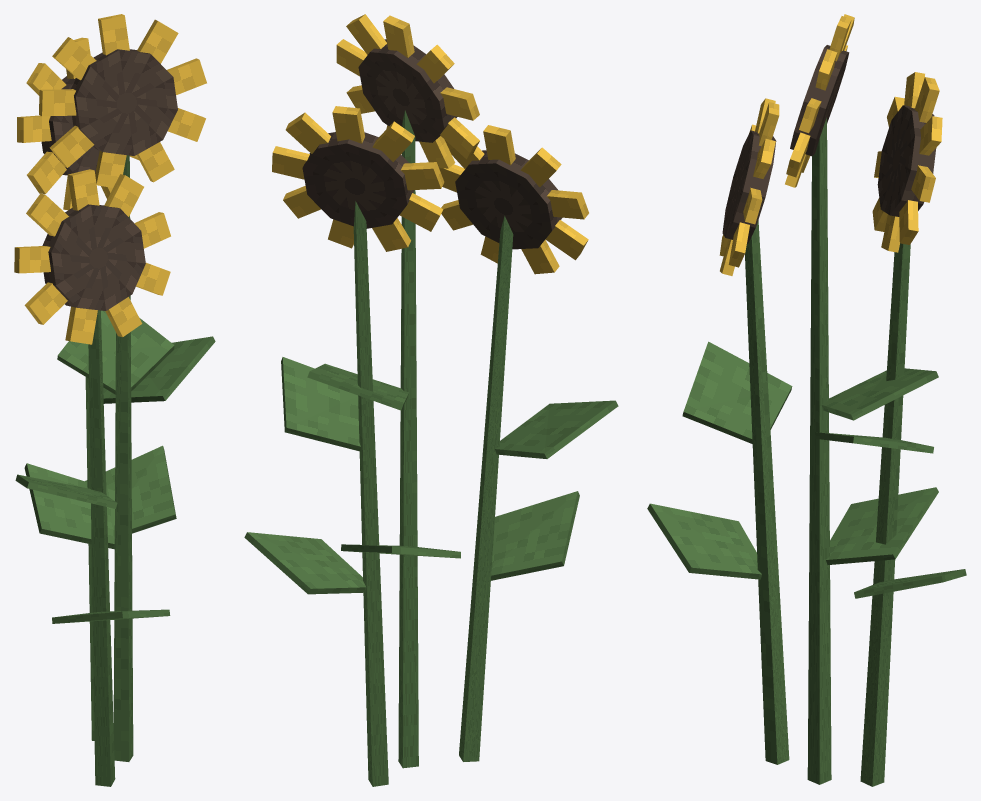
File: f_sunflower.glb
3 views of the same model, side by side, from view 1: azimuth 30°, elevation 25°; view 2: azimuth 150°, elevation 25°; view 3: azimuth 270°, elevation 25° (orthographic). The views are drawn at different scales.
Parts seen in each view (by area): view 1: block_yellow-petal (×21), block_seed-head (×3), block_pointed-leaf (×6), block_stem-0, block_stem-1, block_stem-2; view 2: block_pointed-leaf (×6), block_seed-head (×3), block_yellow-petal (×20), block_stem-0, block_stem-2, block_stem-1; view 3: block_pointed-leaf (×6), block_stem-0, block_stem-1, block_stem-2, block_seed-head (×3), block_yellow-petal (×8).
Boxes of the visible parts, x1=… form: block_yellow-petal (×21): x1=14, y1=14, x2=206, y2=344; block_seed-head (×3): x1=41, y1=49, x2=177, y2=310; block_pointed-leaf (×6): x1=15, y1=310, x2=215, y2=623; block_stem-0: x1=113, y1=155, x2=133, y2=761; block_stem-1: x1=88, y1=310, x2=115, y2=786; block_stem-2: x1=85, y1=377, x2=94, y2=740; block_pointed-leaf (×6): x1=244, y1=357, x2=618, y2=594; block_seed-head (×3): x1=302, y1=39, x2=562, y2=249; block_yellow-petal (×20): x1=272, y1=14, x2=588, y2=274; block_stem-0: x1=398, y1=110, x2=418, y2=768; block_stem-2: x1=353, y1=201, x2=388, y2=786; block_stem-1: x1=459, y1=215, x2=513, y2=761; block_pointed-leaf (×6): x1=647, y1=341, x2=966, y2=598; block_stem-0: x1=807, y1=117, x2=831, y2=784; block_stem-1: x1=745, y1=220, x2=789, y2=764; block_stem-2: x1=860, y1=243, x2=910, y2=786; block_seed-head (×3): x1=722, y1=45, x2=936, y2=243; block_yellow-petal (×8): x1=728, y1=77, x2=942, y2=267.
Size of the model in its own units: 0.5522 by 1.5 by 0.5704.
1 material, 1 textured.
